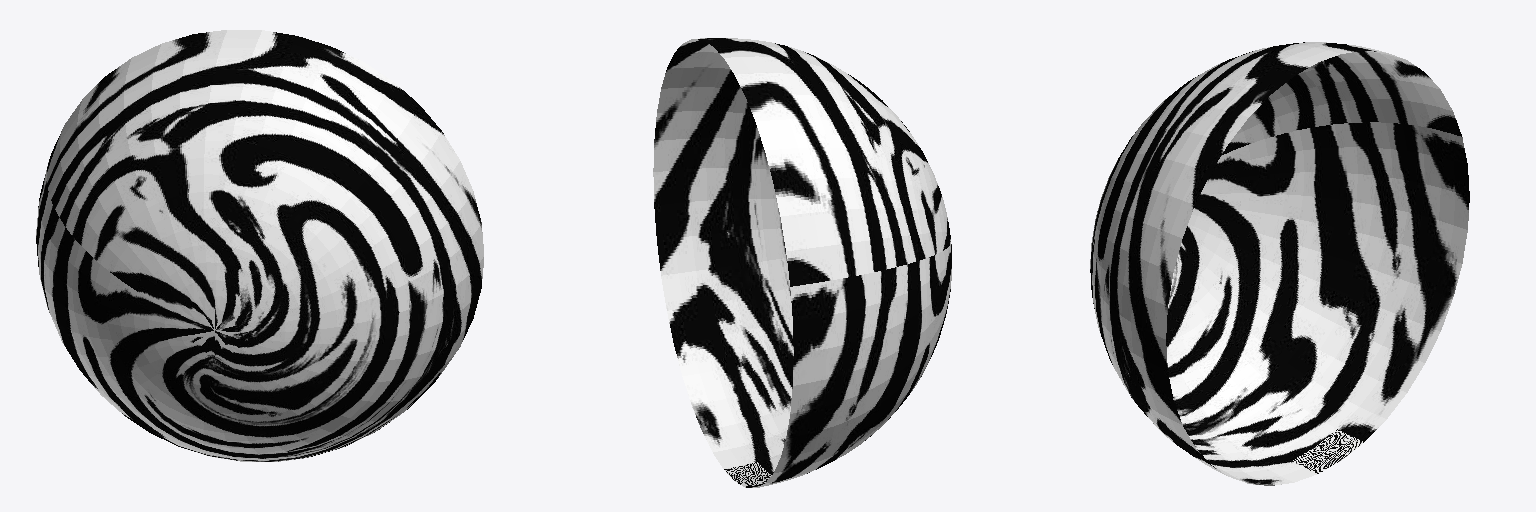
The picture shows the model from 3 angles: view 1: azimuth 30°, elevation 25°; view 2: azimuth 150°, elevation 25°; view 3: azimuth 270°, elevation 25°; orthographic projection.
Parts seen in each view (by area): view 1: pSphere6; view 2: pSphere6; view 3: pSphere6.
Part boxes in pixels (left/top/right/bottom): pSphere6: left=36, top=30, right=483, bottom=461; pSphere6: left=653, top=38, right=951, bottom=487; pSphere6: left=1090, top=42, right=1469, bottom=485.
Bounding box in the file's own units: 3.45 × 3.95 × 3.3.
1 materials, 1 textured.